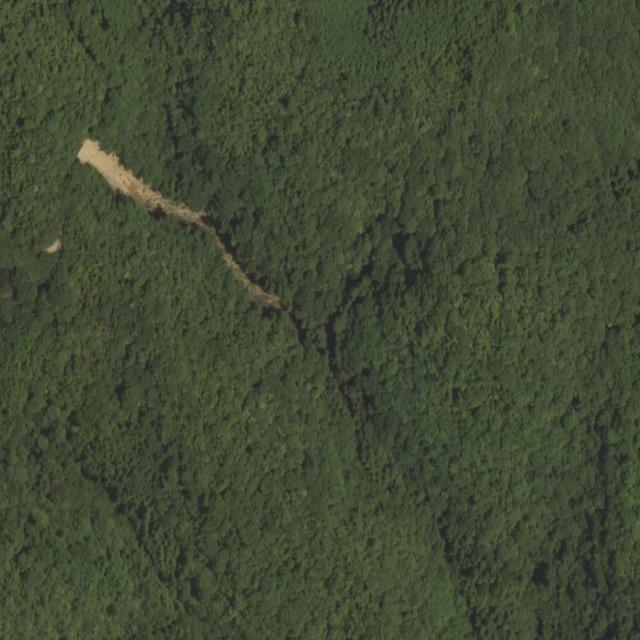landslide: (77, 138, 290, 312)
